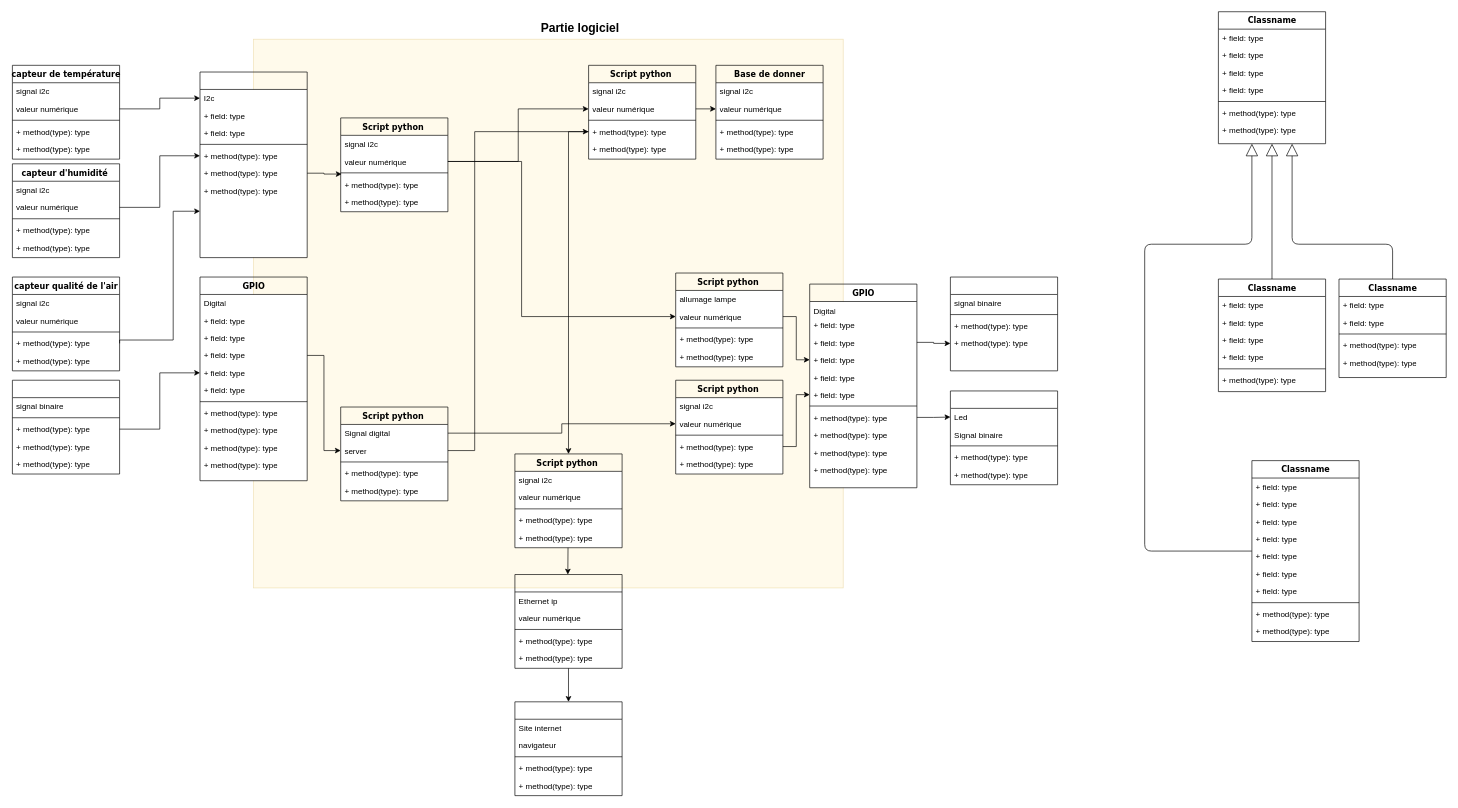
Image size: 1458x808. Some labels were removed from this diagram. Here are the shapes that lost their labels. From the top down, the box of each, then its label:
(199, 71, 307, 258): Interface i2c Raspberry
(950, 276, 1058, 371): Relais
(12, 380, 120, 474): capteur de présence
(950, 390, 1058, 485): Lampe
(514, 574, 622, 668): wifi
(514, 701, 622, 796): Appareil utilisateur
